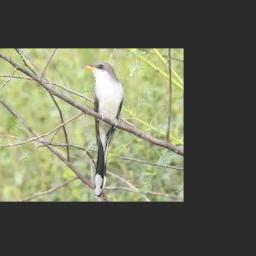Cuckoo: (81, 62, 124, 196)
